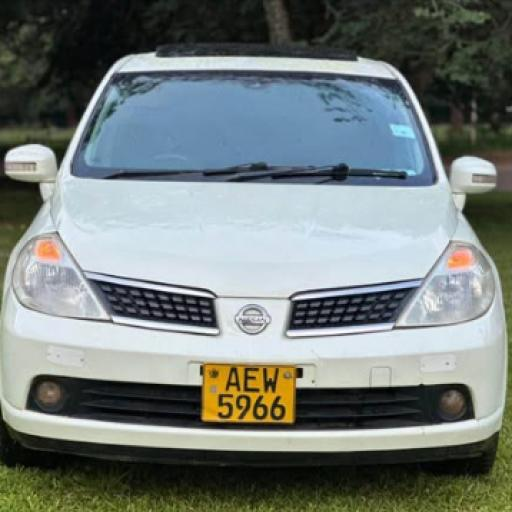number-plates: (204, 359, 296, 421)
